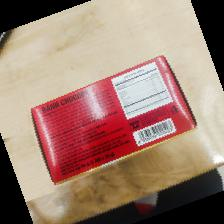Chocopie: (30, 55, 199, 186)
